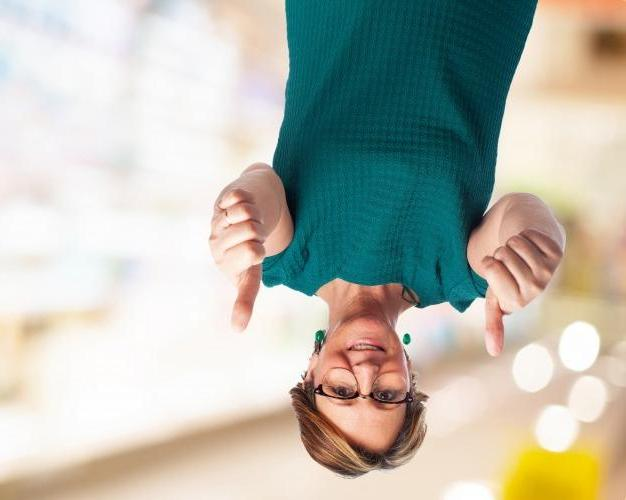thumbsdown: (479, 228, 564, 357), (208, 188, 266, 334)
